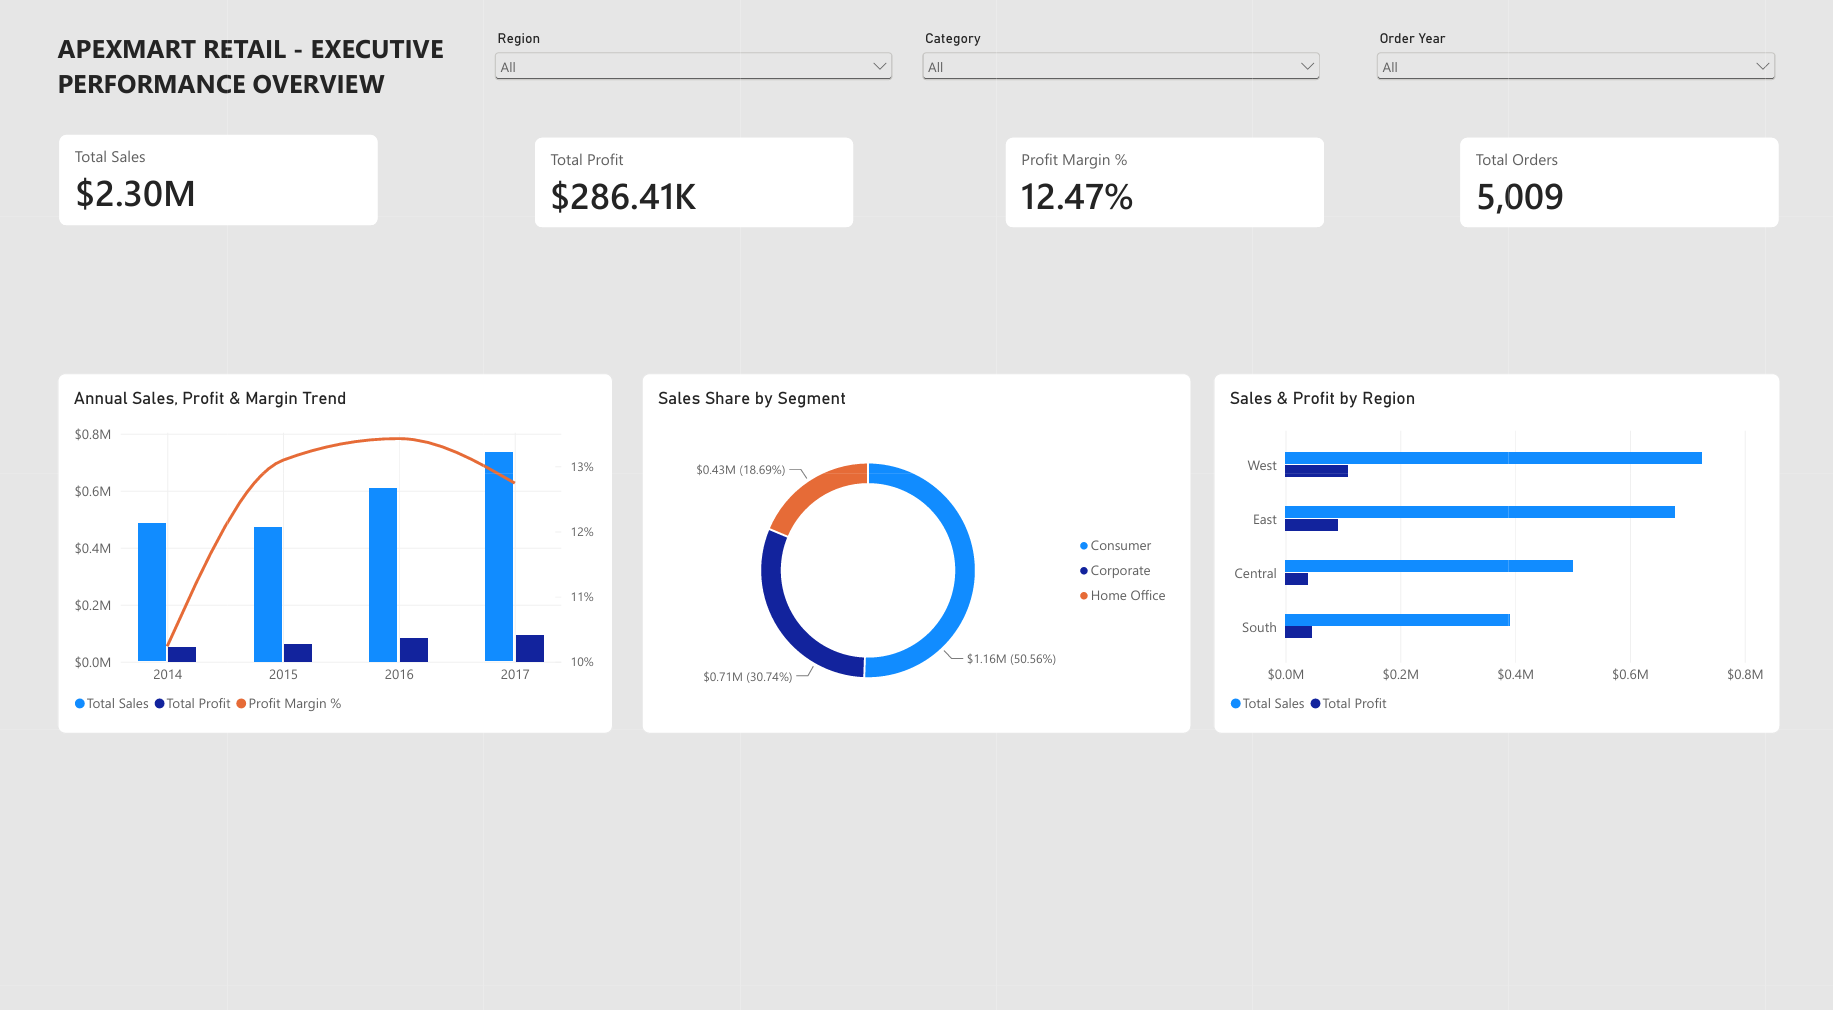

The page's visual inventory and layout, read from the dashboard file:
{"tool":"powerbi","page":{"name":"Executive Overview","canvas":[1920,1080],"ordinal":0},"visuals":[{"type":"textbox","box":[65,47.5,412.5,107.5],"z":0},{"type":"slicer","fields":{"Values":["sales_data.region"]},"box":[515,47.5,424.3,84.3],"z":1000},{"type":"slicer","fields":{"Values":["sales_data.category"]},"box":[960,47.8,424.3,84.3],"z":2000},{"type":"slicer","fields":{"Values":["sales_data.order_year"]},"box":[1433.3,47.8,424.3,84.3],"z":3000},{"type":"cardVisual","fields":{"Data":["sales_data.Total Sales"]},"box":[65,155,335,97.5],"z":4000},{"type":"cardVisual","fields":{"Data":["sales_data.Total Profit"]},"box":[560,157.5,335,97.5],"z":5000},{"type":"cardVisual","fields":{"Data":["sales_data.Profit Margin %"]},"box":[1050,157.5,335,97.5],"z":6000},{"type":"cardVisual","fields":{"Data":["sales_data.Total Orders"]},"box":[1522.5,157.5,335,97.5],"z":7000},{"type":"lineClusteredColumnComboChart","title":"Annual Sales, Profit & Margin Trend","fields":{"Category":["sales_data.Order_Year"],"Y":["sales_data.Total Sales","sales_data.Total Profit"],"Y2":["sales_data.Profit Margin %"]},"box":[65,405,577.5,375],"z":8000},{"type":"donutChart","title":"Sales Share by Segment","fields":{"Category":["sales_data.segment"],"Y":["sales_data.Total Sales"]},"box":[672.5,405,572.5,375],"z":9000},{"type":"clusteredBarChart","title":"Sales & Profit by Region","fields":{"Category":["sales_data.Region"],"Y":["sales_data.Total Sales","sales_data.Total Profit"]},"box":[1267.5,405,590,375],"z":10000}]}

Visuals, with their boxes in screenshot pixels (x1, y1, x2, y2), scaled from the page's 1920x1080 canvas onto the 1833x1010 screenshot:
textbox: left=62, top=44, right=456, bottom=145
slicer - sales_data.region: left=492, top=44, right=897, bottom=123
slicer - sales_data.category: left=916, top=45, right=1322, bottom=124
slicer - sales_data.order_year: left=1368, top=45, right=1773, bottom=124
cardVisual - sales_data.Total Sales: left=62, top=145, right=382, bottom=236
cardVisual - sales_data.Total Profit: left=535, top=147, right=854, bottom=238
cardVisual - sales_data.Profit Margin %: left=1002, top=147, right=1322, bottom=238
cardVisual - sales_data.Total Orders: left=1454, top=147, right=1773, bottom=238
"Annual Sales, Profit & Margin Trend" lineClusteredColumnComboChart: left=62, top=379, right=613, bottom=729
"Sales Share by Segment" donutChart: left=642, top=379, right=1189, bottom=729
"Sales & Profit by Region" clusteredBarChart: left=1210, top=379, right=1773, bottom=729
